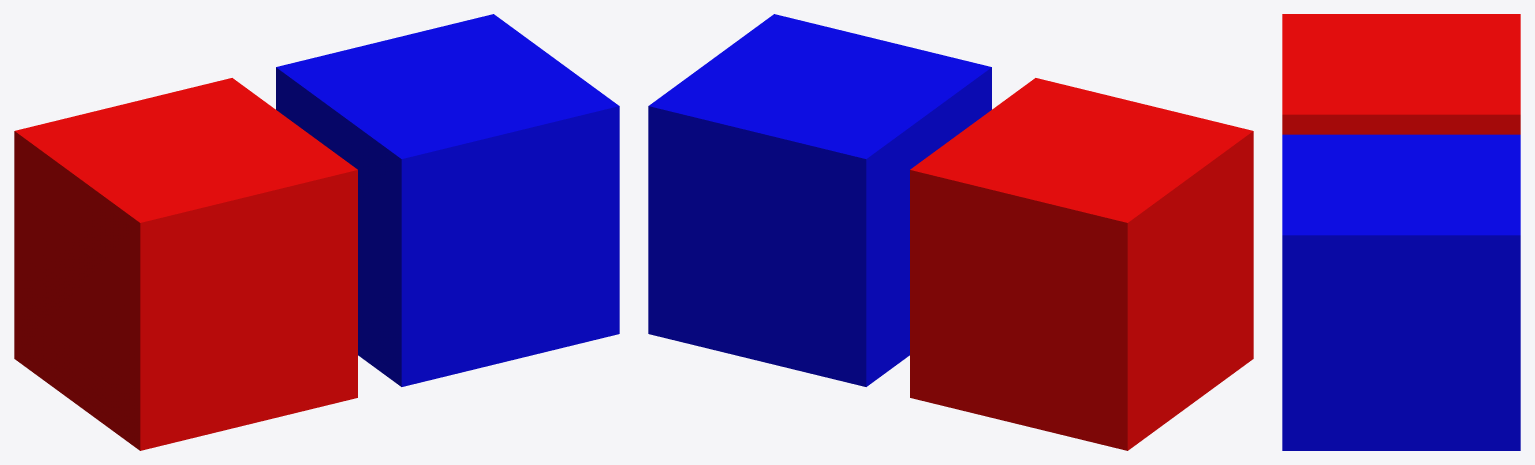
File: two_parts_two_materials.glb
The picture shows the model from 3 angles, left to right: view 1: azimuth 30°, elevation 25°; view 2: azimuth 150°, elevation 25°; view 3: azimuth 270°, elevation 25°; orthographic projection. The views are drawn at different scales.
Parts seen in each view (by area): view 1: blocks; view 2: blocks; view 3: blocks.
Part boxes in pixels (x1,y1,x2,y2): blocks: (14, 14, 619, 450); blocks: (648, 14, 1253, 450); blocks: (1282, 14, 1520, 450).
Bounding box in the file's own units: 22 × 10 × 10.
